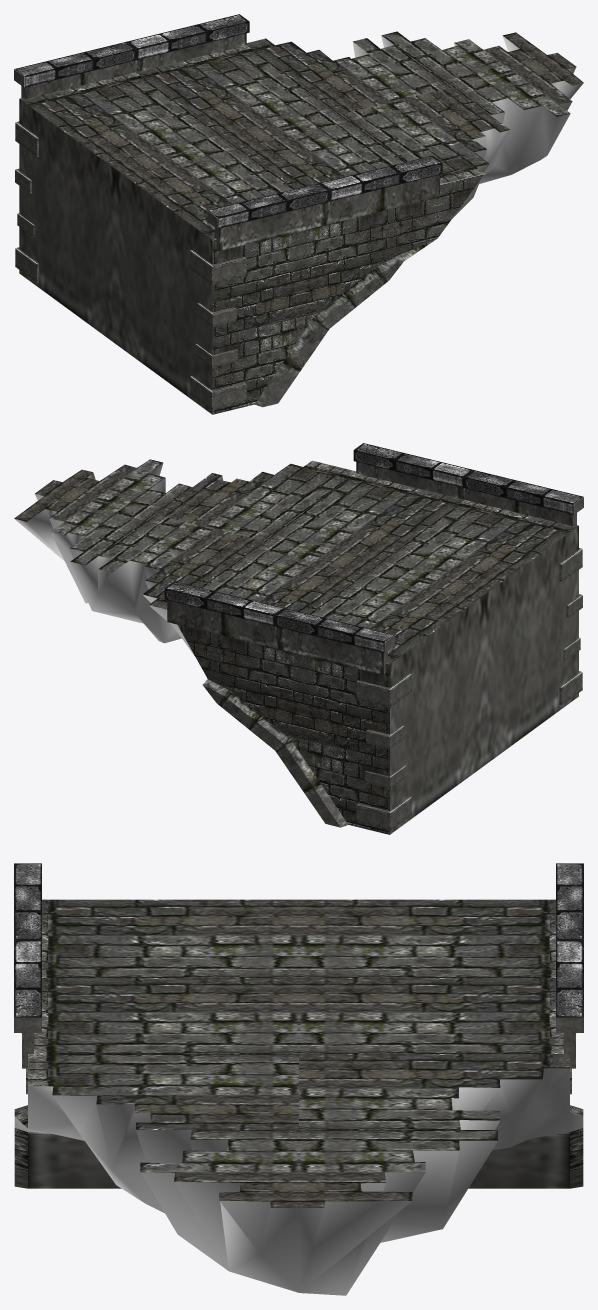
Rendered from stone_lod_rock_broken2.FBX.
3 renders of one model, top to bottom at view 1: azimuth 30°, elevation 25°; view 2: azimuth 150°, elevation 25°; view 3: azimuth 270°, elevation 25°, orthographic. The views are drawn at different scales.
Parts seen in each view (by area): view 1: Object001; view 2: Object001; view 3: Object001.
Boxes of the visible parts, bbox=[...] form: Object001: bbox=[14, 14, 583, 414]; Object001: bbox=[14, 443, 583, 834]; Object001: bbox=[14, 863, 583, 1295].
Bounding box in the file's own units: 731 × 309 × 568.
